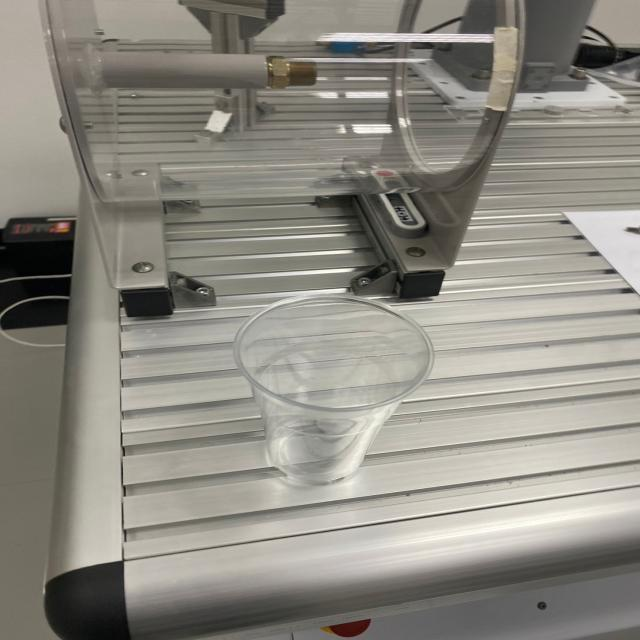glass: (224, 285, 442, 493)
